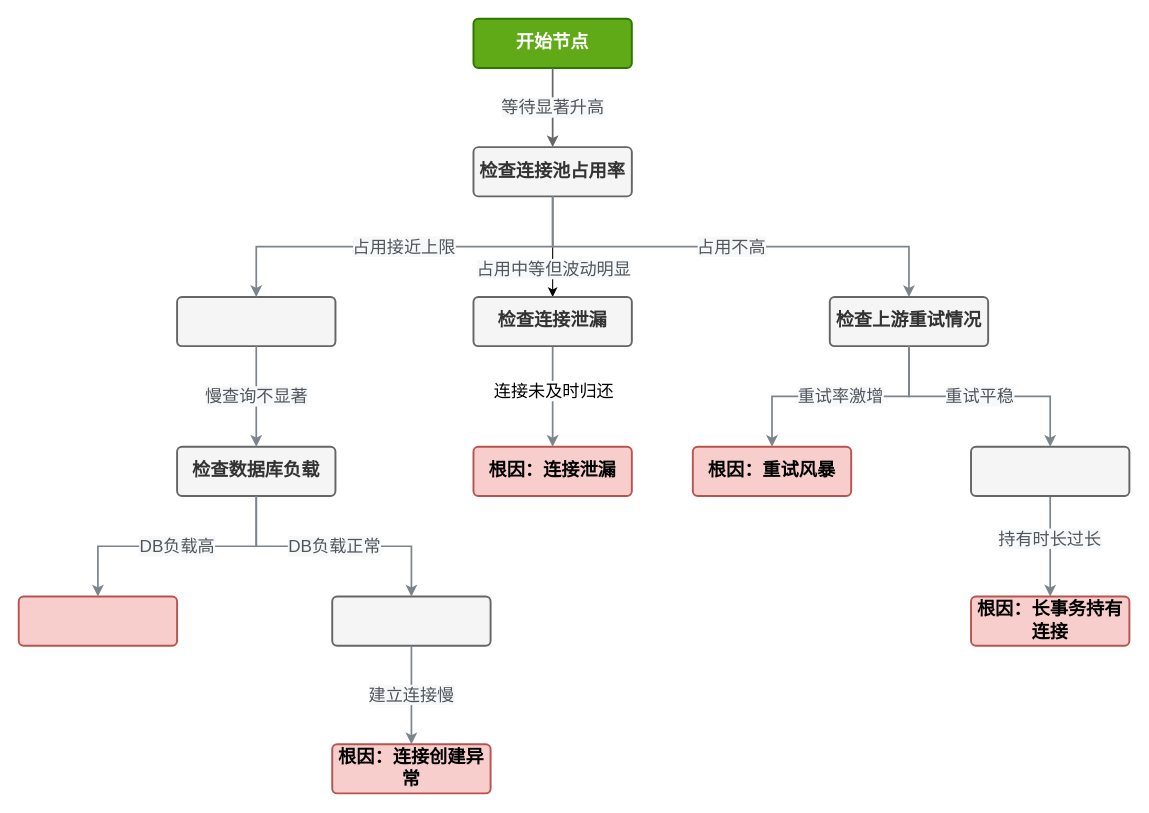
The diagram is 1149 pixels wide and 813 high, and some of its shapes have lost their labels. Each missing label, with the centre of its shape:
"根因：数据库性能瓶颈" goes at (x=97, y=620).
"检查慢查询日志" goes at (x=256, y=321).
"检查连接创建时延" goes at (x=411, y=620).
"检查连接持有时长" goes at (x=1050, y=470).
